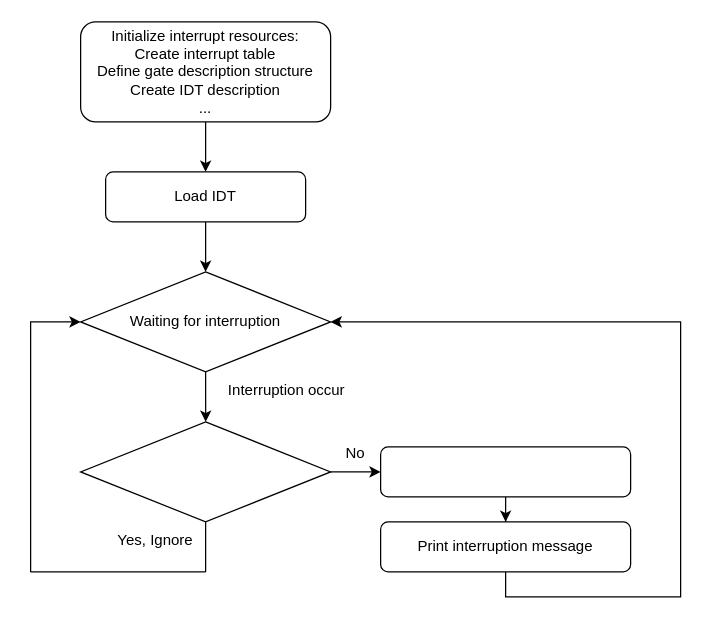
The diagram is 713 pixels wide and 629 high, and some of its shapes have lost their labels. The shapes that lost their labels are listed below. From the top down, each one's centre as x and y in pixels, then its label:
the point at 205,471: Interrupt 0x27 or 0x2f
the point at 505,471: Go to general interruption handler
